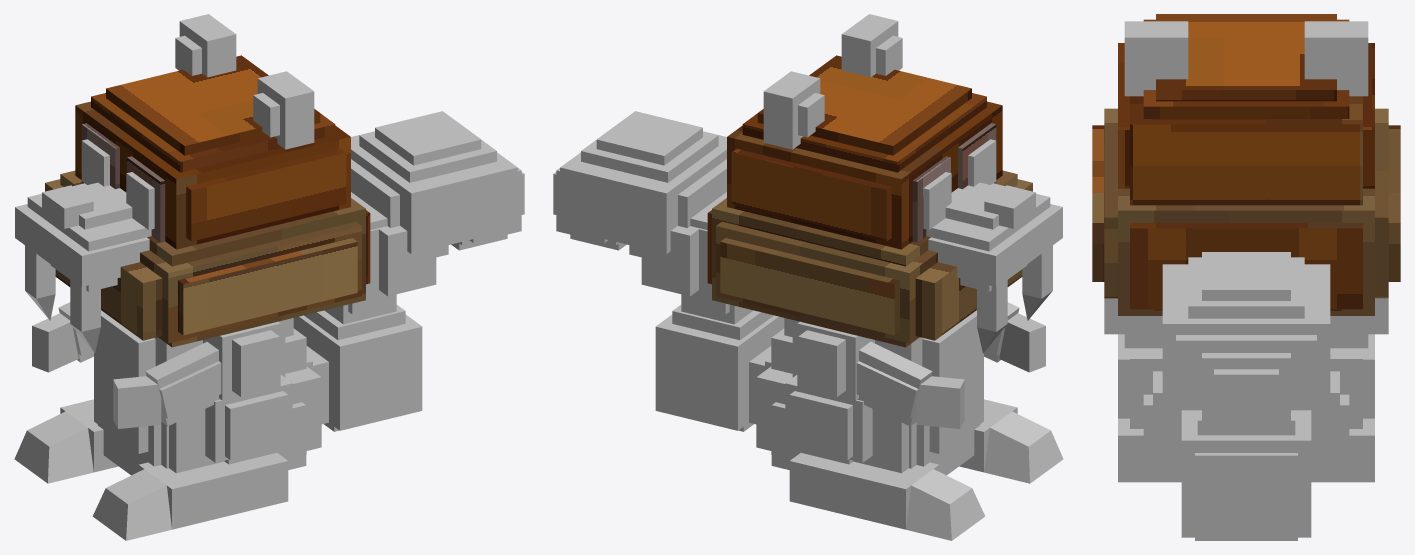
File: sabertooth_squirrel.obj
3 views of the same model, side by side, from view 1: azimuth 30°, elevation 25°; view 2: azimuth 150°, elevation 25°; view 3: azimuth 270°, elevation 25° (orthographic). The views are drawn at different scales.
Visible parts, largest first — view 1: mesh_20.043, mesh_20.001, mesh_20.044, mesh_20, mesh_20.035, mesh_20.046, mesh_20.036, mesh_20.006, mesh_20.040, mesh_20.041, mesh_20.045, mesh_20.042 (+2 smaller); view 2: mesh_20.043, mesh_20.001, mesh_20.044, mesh_20, mesh_20.006, mesh_20.046, mesh_20.030, mesh_20.035, mesh_20.034, mesh_20.037, mesh_20.045, mesh_20.039 (+2 smaller); view 3: mesh_20.043, mesh_20.001, mesh_20.046, mesh_20, mesh_20.030, mesh_20.036, mesh_20.034, mesh_20.040, mesh_20.006, mesh_20.035, mesh_20.007, mesh_20.038.
Part boxes in pixels (x1,y1,x2,y2): mesh_20.043: [45, 55, 370, 347]; mesh_20.001: [293, 111, 524, 431]; mesh_20.044: [15, 182, 151, 353]; mesh_20: [94, 310, 321, 475]; mesh_20.035: [92, 453, 288, 540]; mesh_20.046: [175, 14, 314, 149]; mesh_20.036: [205, 375, 292, 462]; mesh_20.006: [14, 399, 118, 483]; mesh_20.040: [203, 321, 280, 400]; mesh_20.041: [145, 342, 221, 426]; mesh_20.045: [81, 139, 154, 229]; mesh_20.042: [113, 376, 161, 428]; mesh_20.043: [707, 55, 1032, 347]; mesh_20.001: [553, 111, 784, 431]; mesh_20.044: [926, 182, 1062, 353]; mesh_20: [756, 310, 983, 475]; mesh_20.006: [789, 453, 985, 540]; mesh_20.046: [763, 14, 902, 149]; mesh_20.030: [785, 375, 872, 462]; mesh_20.035: [959, 399, 1063, 483]; mesh_20.034: [797, 321, 874, 400]; mesh_20.037: [856, 342, 932, 426]; mesh_20.045: [923, 139, 996, 229]; mesh_20.039: [916, 376, 964, 428]; mesh_20.043: [1092, 14, 1400, 315]; mesh_20.001: [1162, 252, 1330, 540]; mesh_20.046: [1124, 21, 1368, 96]; mesh_20: [1153, 371, 1339, 473]; mesh_20.030: [1330, 334, 1374, 428]; mesh_20.036: [1118, 334, 1162, 428]; mesh_20.034: [1330, 298, 1388, 348]; mesh_20.040: [1104, 298, 1162, 348]; mesh_20.006: [1311, 418, 1374, 482]; mesh_20.035: [1118, 418, 1181, 482]; mesh_20.007: [1311, 394, 1349, 475]; mesh_20.038: [1143, 394, 1181, 475].
Size of the model in its own units: 4.54 by 3.76 by 2.28.
